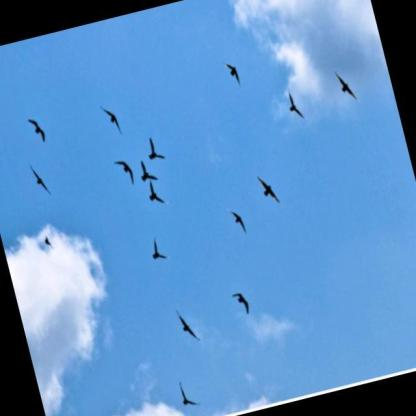bird: (253, 169, 284, 212), (173, 302, 203, 346), (26, 157, 53, 200), (333, 66, 360, 106), (99, 100, 126, 139), (224, 201, 251, 238), (175, 375, 202, 410), (284, 85, 307, 124), (219, 56, 243, 93), (143, 175, 168, 210), (25, 112, 49, 147), (146, 232, 170, 265), (143, 132, 167, 165), (113, 157, 137, 189), (135, 156, 160, 185), (230, 288, 253, 318), (41, 231, 55, 253)
